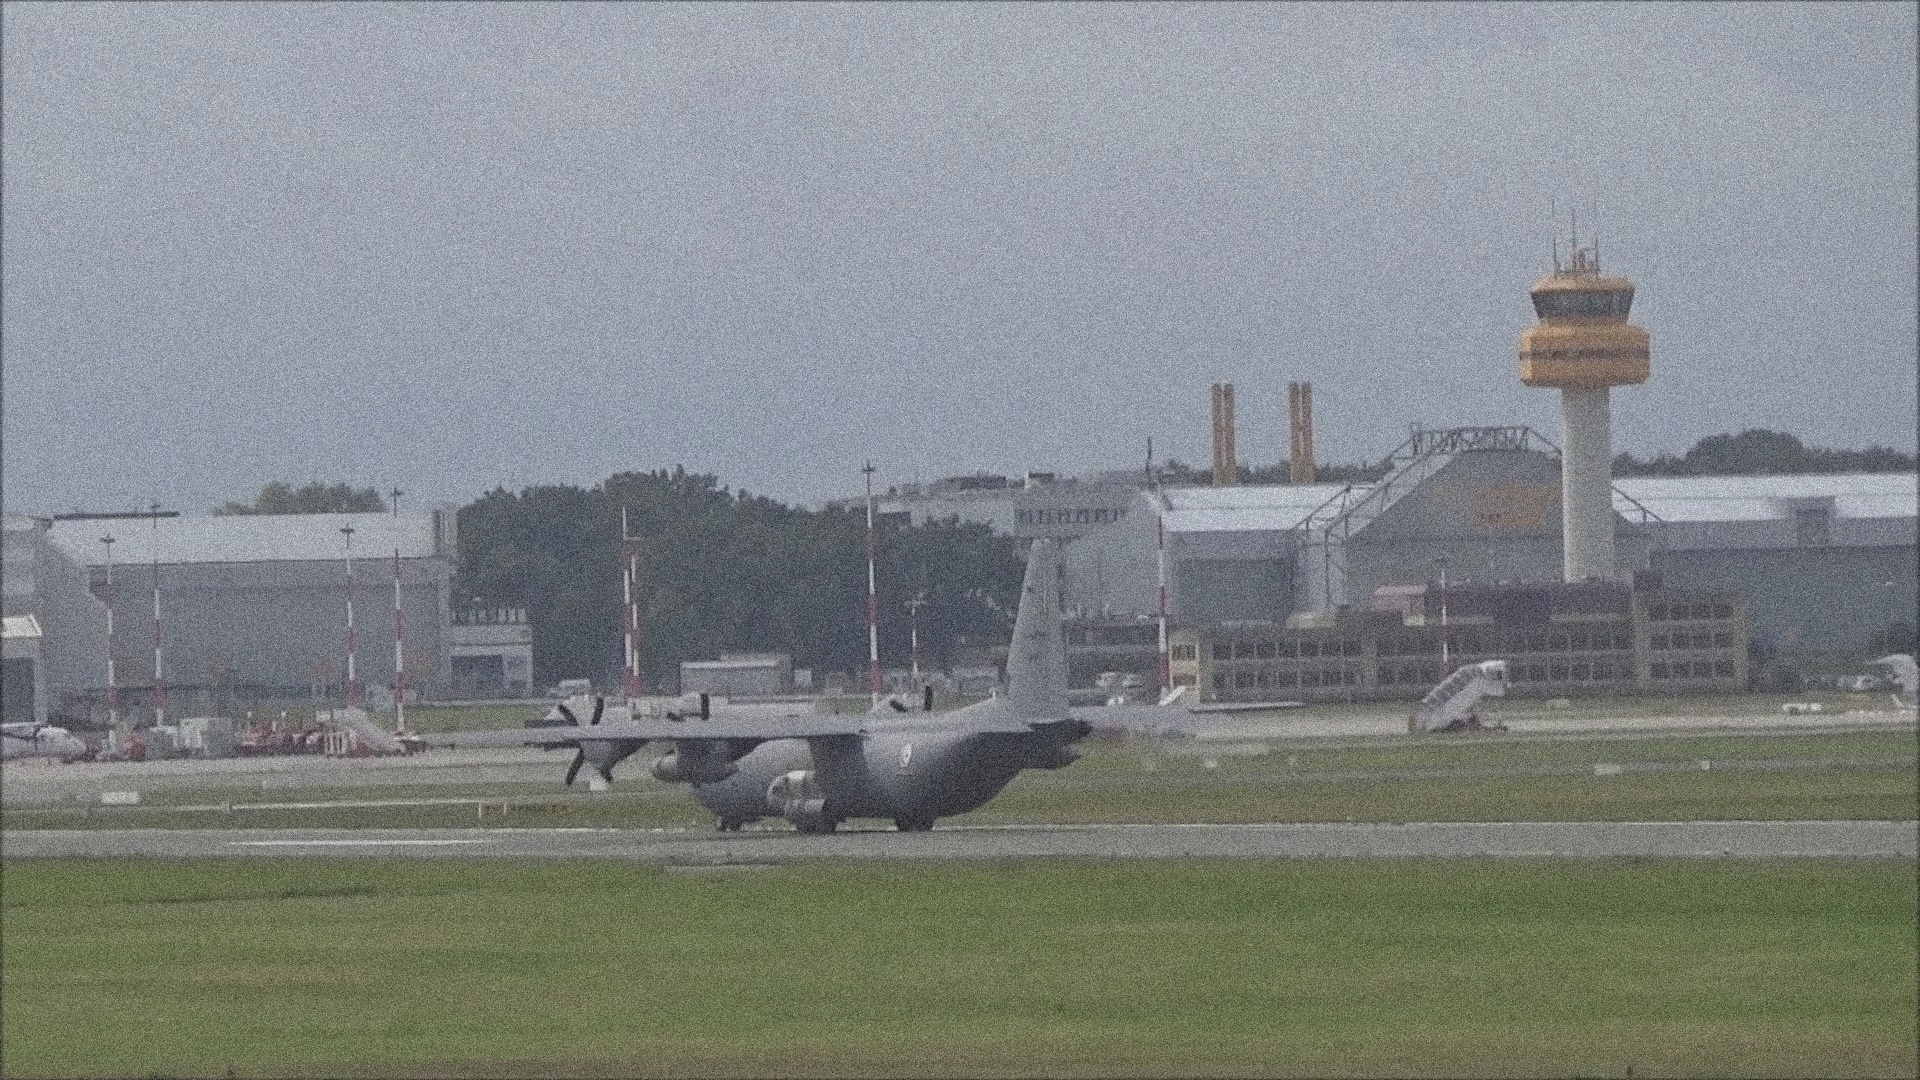Airplane: (404, 533, 1305, 828)
